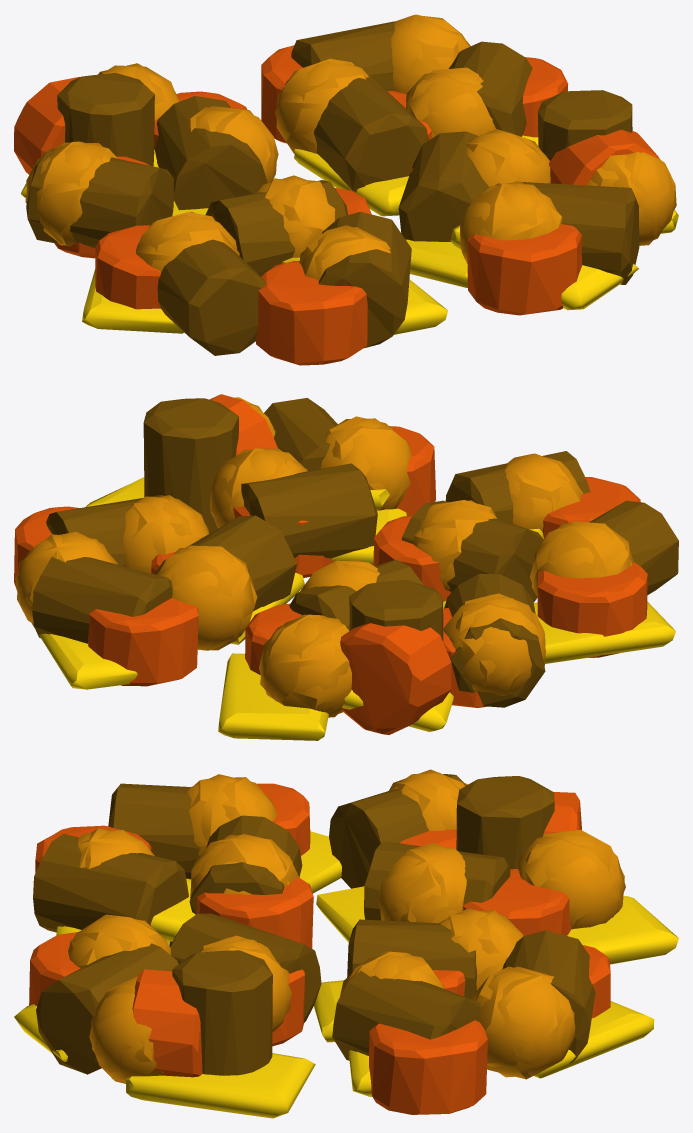
The model's file is dutch_snacks_full_plate.fbx.
3 renders of one model, top to bottom at view 1: azimuth 30°, elevation 25°; view 2: azimuth 150°, elevation 25°; view 3: azimuth 270°, elevation 25°, orthographic. The views are drawn at different scales.
Parts seen in each view (by area): view 1: frikandel_02_model, frikandel_01_model, frikandel_04_model, frikandel_03_model, bamihap_01_model, bitterbal_03_model, bitterbal_04_model, bamihap_04_model, bitterbal_01_model, bitterbal_02_model, kassoufle_04_model, bamihap_02_model (+3 smaller); view 2: frikandel_04_model, bitterbal_02_model, frikandel_03_model, bitterbal_03_model, bitterbal_01_model, bamihap_02_model, frikandel_01_model, bamihap_01_model, frikandel_02_model, bamihap_03_model, bitterbal_04_model, kassoufle_02_model (+4 smaller); view 3: frikandel_04_model, frikandel_01_model, frikandel_03_model, frikandel_02_model, bitterbal_02_model, bitterbal_03_model, bamihap_03_model, bitterbal_04_model, bitterbal_01_model, bamihap_04_model, kassoufle_04_model, bamihap_01_model (+4 smaller).
Part boxes in pixels (bbox=[...]): frikandel_02_model: bbox=[26, 72, 267, 248]; frikandel_01_model: bbox=[157, 180, 411, 355]; frikandel_04_model: bbox=[398, 90, 639, 284]; frikandel_03_model: bbox=[291, 21, 532, 191]; bamihap_01_model: bbox=[95, 188, 371, 365]; bitterbal_03_model: bbox=[275, 14, 495, 153]; bitterbal_04_model: bbox=[460, 129, 676, 263]; bamihap_04_model: bbox=[411, 129, 660, 315]; bitterbal_01_model: bbox=[136, 175, 390, 280]; bitterbal_02_model: bbox=[25, 63, 278, 246]; kassoufle_04_model: bbox=[406, 209, 678, 310]; bamihap_02_model: bbox=[14, 77, 247, 258]; frikandel_04_model: bbox=[143, 398, 377, 558]; bitterbal_02_model: bbox=[259, 560, 545, 717]; frikandel_03_model: bbox=[32, 495, 296, 643]; bitterbal_03_model: bbox=[15, 495, 257, 650]; bitterbal_01_model: bbox=[413, 453, 633, 596]; bamihap_02_model: bbox=[245, 603, 486, 734]; frikandel_01_model: bbox=[401, 451, 678, 602]; bamihap_01_model: bbox=[373, 477, 647, 657]; frikandel_02_model: bbox=[289, 559, 545, 707]; bamihap_03_model: bbox=[14, 506, 198, 686]; bitterbal_04_model: bbox=[210, 397, 411, 528]; kassoufle_02_model: bbox=[218, 653, 453, 740]; frikandel_04_model: bbox=[36, 913, 321, 1075]; frikandel_01_model: bbox=[33, 783, 302, 945]; frikandel_03_model: bbox=[332, 919, 595, 1063]; frikandel_02_model: bbox=[329, 774, 554, 920]; bitterbal_02_model: bbox=[378, 769, 625, 929]; bitterbal_03_model: bbox=[340, 908, 575, 1079]; bamihap_03_model: bbox=[369, 945, 610, 1114]; bitterbal_04_model: bbox=[68, 914, 291, 1083]; bitterbal_01_model: bbox=[78, 774, 299, 898]; bamihap_04_model: bbox=[29, 932, 305, 1077]; kassoufle_04_model: bbox=[14, 1004, 315, 1118]; bamihap_01_model: bbox=[35, 783, 313, 948].
Bounding box in the file's own units: 45.59 × 47.62 × 9.2.
